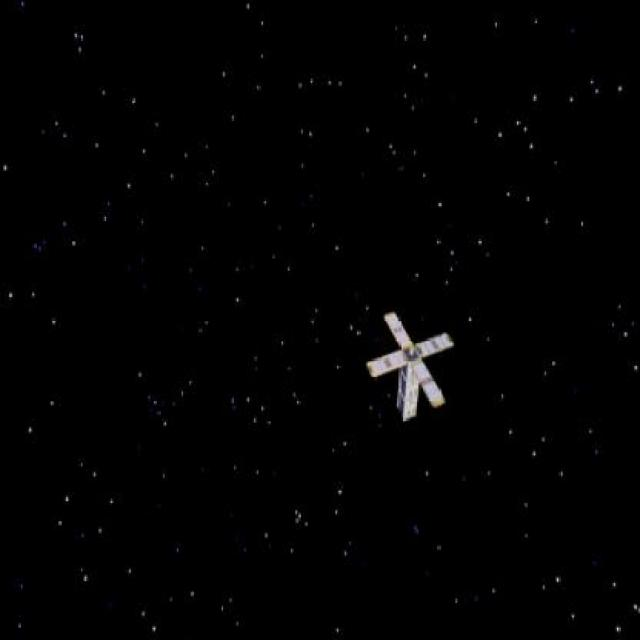satellite: (366, 300, 464, 435)
